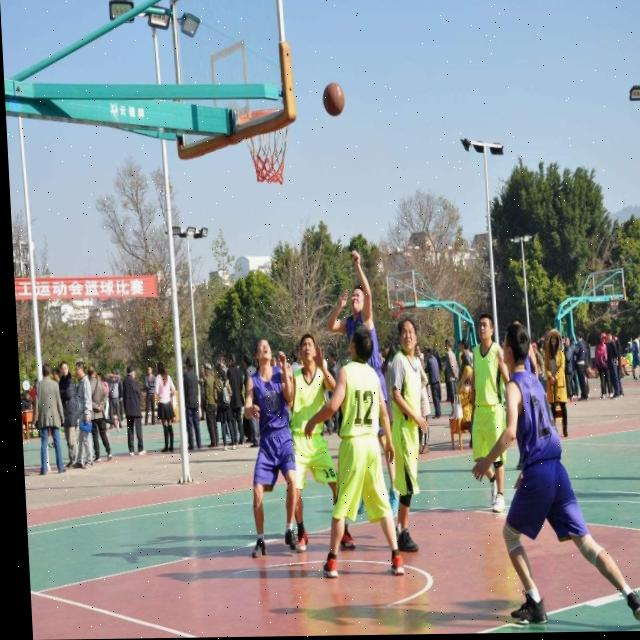basketball: (322, 81, 346, 116)
hoop: (236, 108, 293, 187)
